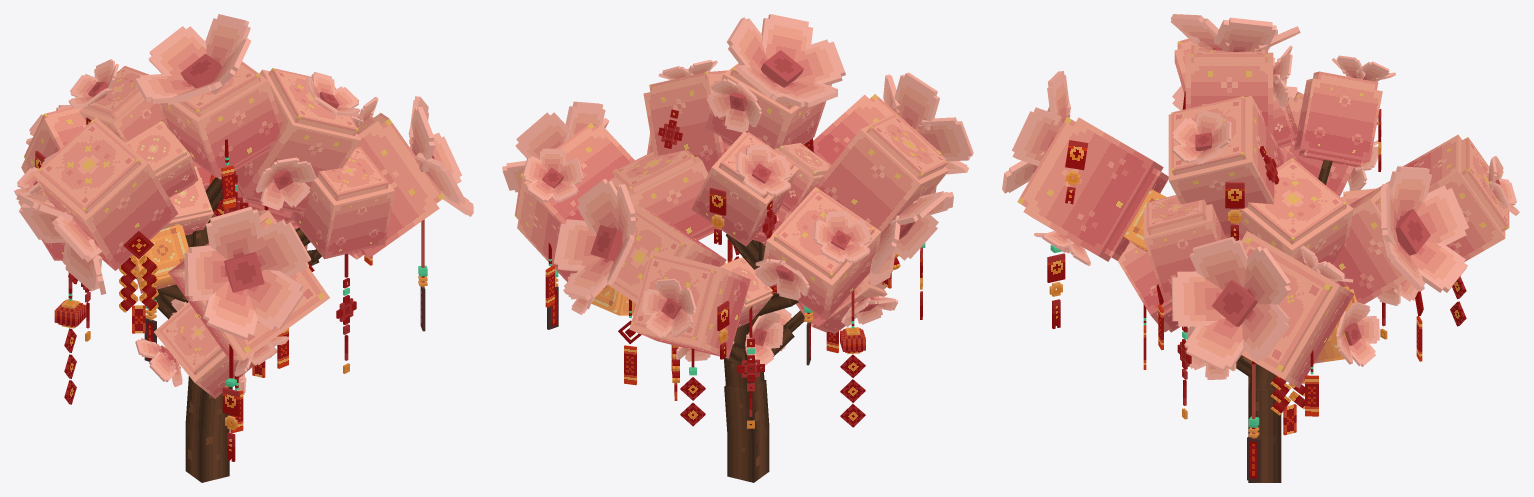
The model's file is 新春桃花树.gltf.
3 views of the same model, side by side, from view 1: azimuth 30°, elevation 25°; view 2: azimuth 150°, elevation 25°; view 3: azimuth 270°, elevation 25° (orthographic). The views are drawn at different scales.
Parts seen in each view (by area): view 1: tree, Group (×4), Group-1 (×6), Group-2, Group-3, Bone, Bone-1, Group-6, Bone-2; view 2: tree, Group (×5), Group-1 (×9), Group-3, Object-29 (×2), Bone-1, Group-5, Group-4, Object-22; view 3: tree, Group (×4), Group-1 (×9), Object-29 (×2), Group-2, Bone-2, Bone, Group-6, Bone-1.
Part boxes in pixels (<box>): tree: <box>18,61,444,482</box>; Group (×4): <box>16,14,473,339</box>; Group-1 (×6): <box>14,59,360,386</box>; Group-2: <box>119,231,158,333</box>; Group-3: <box>54,272,86,404</box>; Bone: <box>222,344,239,461</box>; Bone-1: <box>336,253,356,373</box>; Group-6: <box>221,139,236,209</box>; Bone-2: <box>418,219,427,331</box>; tree: <box>514,63,948,482</box>; Group (×5): <box>502,14,973,300</box>; Group-1 (×9): <box>522,59,898,368</box>; Group-3: <box>840,290,865,427</box>; Object-29 (×2): <box>709,188,729,359</box>; Bone-1: <box>736,306,764,428</box>; Group-5: <box>680,348,705,426</box>; Group-4: <box>618,299,641,385</box>; Object-22: <box>658,109,682,148</box>; tree: <box>1017,38,1509,482</box>; Group (×4): <box>1002,14,1468,371</box>; Group-1 (×9): <box>1034,45,1519,366</box>; Object-29 (×2): <box>1065,140,1244,240</box>; Group-2: <box>1270,375,1304,435</box>; Bone-2: <box>1247,361,1260,482</box>; Bone: <box>1047,245,1065,328</box>; Group-6: <box>1305,350,1318,416</box>; Bone-1: <box>1177,326,1191,419</box>.
Bounding box in the file's own units: 190 × 189 × 189.
1 material, 1 textured.
